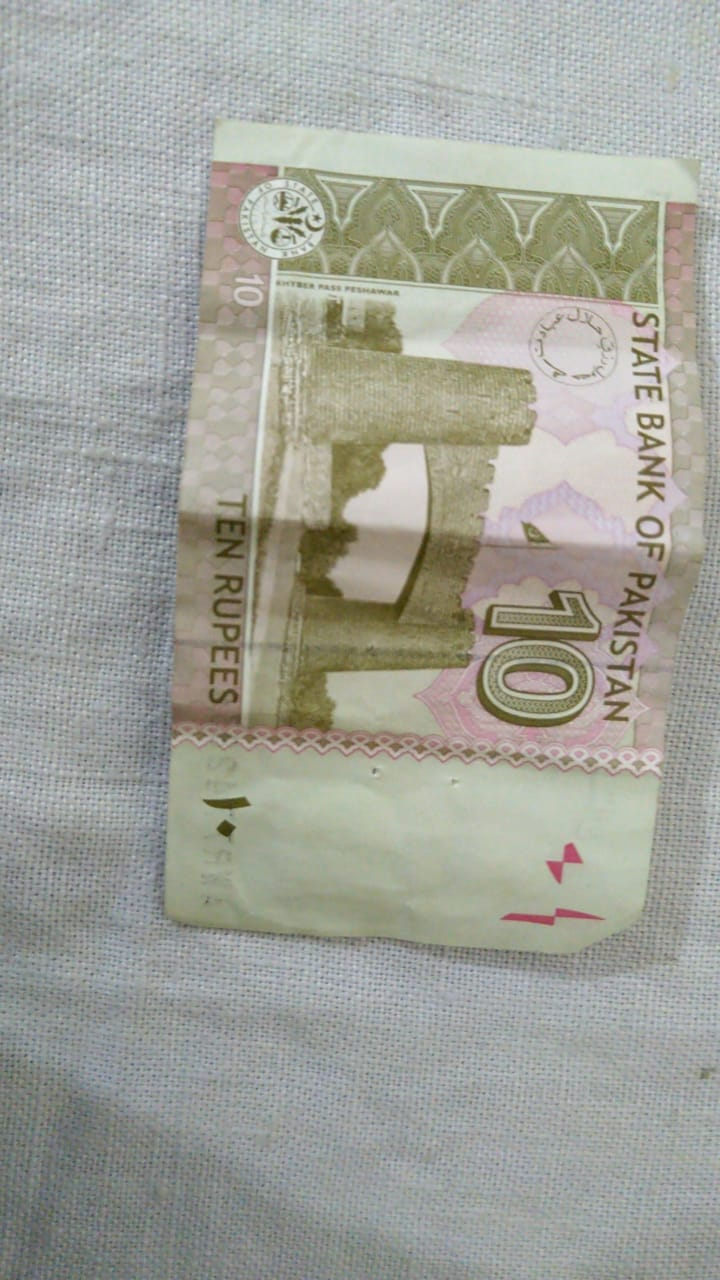10 rupee: (169, 103, 700, 961)
